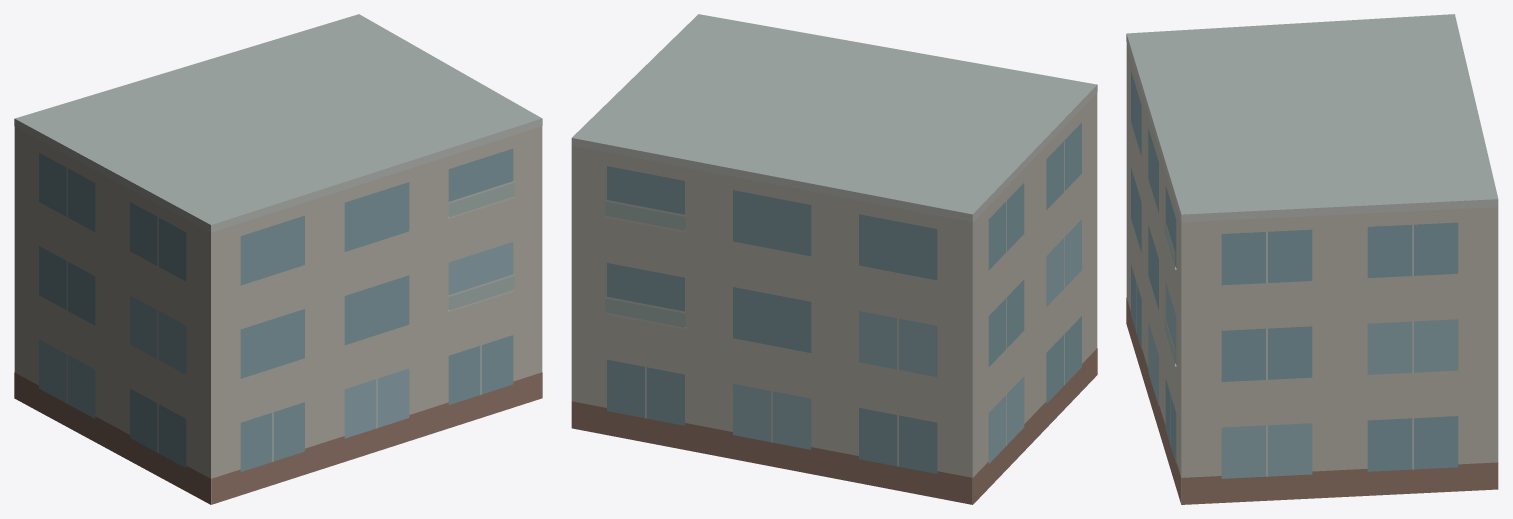
Rendered from survey-upis-32965062.glb.
3 views of the same model, side by side, from view 1: azimuth 30°, elevation 25°; view 2: azimuth 150°, elevation 25°; view 3: azimuth 270°, elevation 25° (orthographic). The views are drawn at different scales.
Parts seen in each view (by area): view 1: survey-upis-32965062.tmp; view 2: survey-upis-32965062.tmp; view 3: survey-upis-32965062.tmp.
Part boxes in pixels (<box>): survey-upis-32965062.tmp: <box>14,14,542,504</box>; survey-upis-32965062.tmp: <box>571,14,1097,504</box>; survey-upis-32965062.tmp: <box>1126,14,1498,504</box>.
Bounding box in the file's own units: 13.34 × 9 × 10.46.
